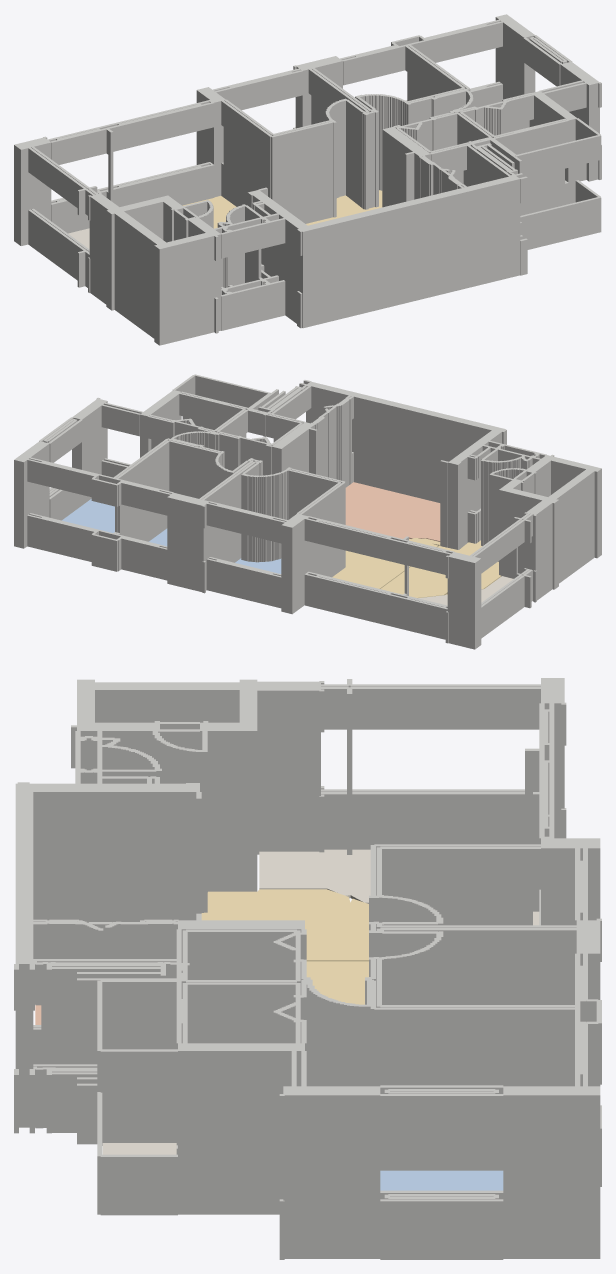
3 views of the same model, one above another, from view 1: azimuth 30°, elevation 25°; view 2: azimuth 150°, elevation 25°; view 3: azimuth 270°, elevation 25° (orthographic). The views are drawn at different scales.
Parts seen in each view (by area): view 1: walls, room:living:10; view 2: walls, room:kitchen:2, room:living:9, room:living:10, room:bedroom:11, room:other:13, room:bedroom:0; view 3: walls, room:living:9, room:other:13, room:bedroom:11, room:living:10, room:other:16.
Boxes of the visible parts, x1,y1,x2,y2 form: walls: (14,14,601,345); room:living:10: (182,190,382,228); walls: (14,374,601,649); room:kitchen:2: (345,482,440,541); room:living:9: (380,540,501,598); room:living:10: (332,538,440,588); room:bedroom:11: (62,499,114,532); room:other:13: (418,576,513,605); room:bedroom:0: (235,558,281,573); walls: (14,678,601,1259); room:living:9: (201,889,368,961); room:other:13: (259,849,539,925); room:bedroom:11: (380,1170,503,1190); room:living:10: (306,961,368,1004); room:other:16: (102,1143,176,1154).
Bounding box in the file's own units: 15.32 × 2.8 × 9.11.
